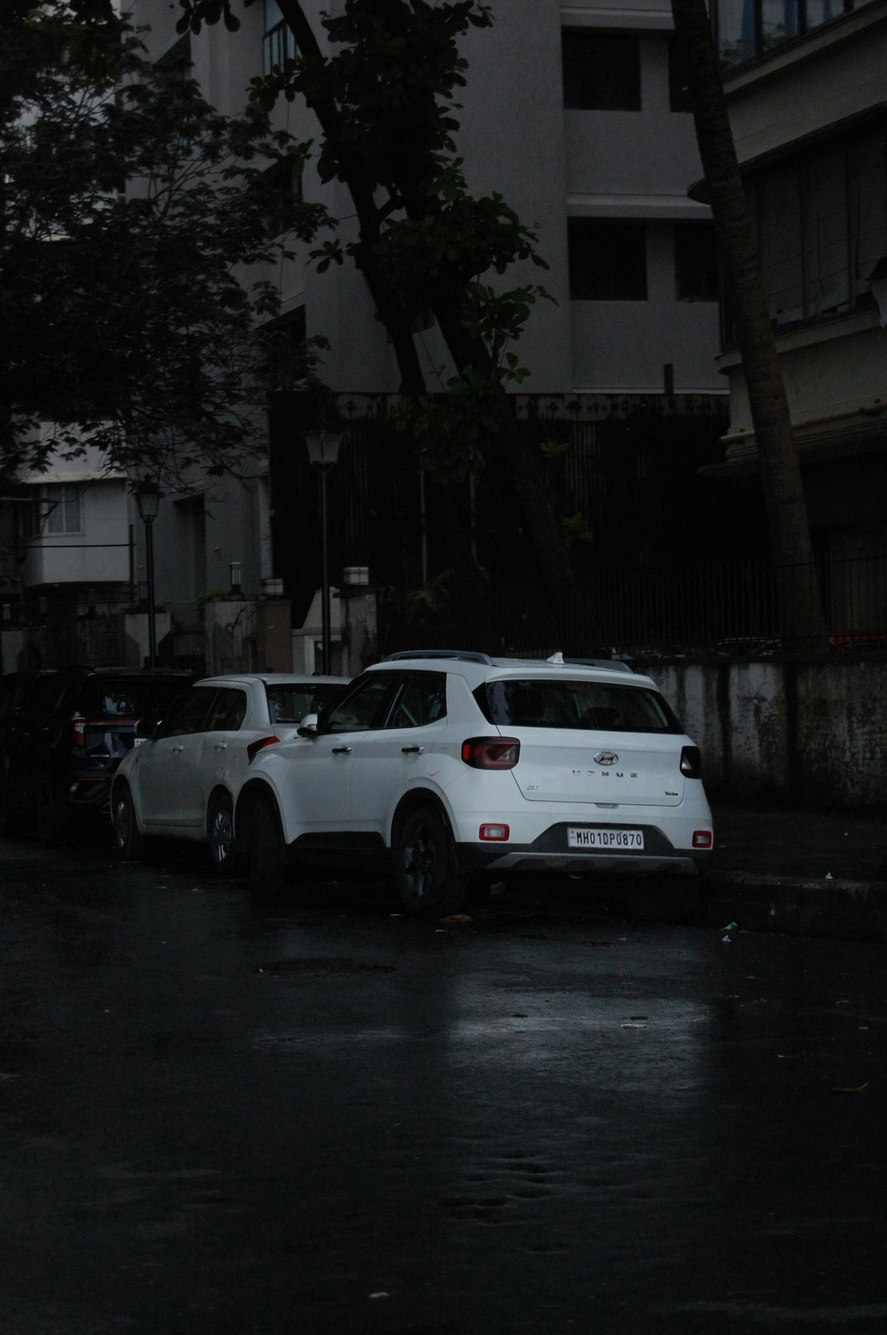car: (244, 643, 753, 911)
